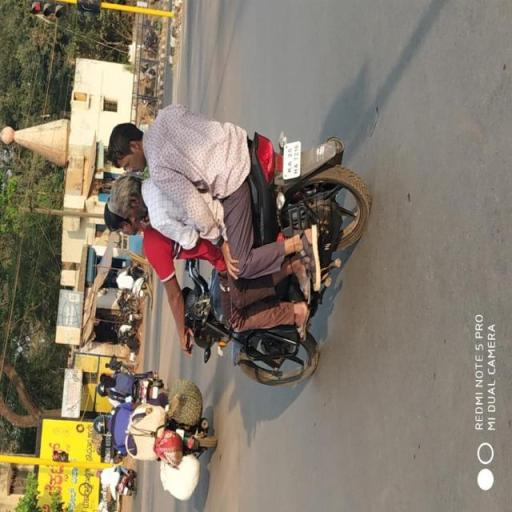tripple riding: (102, 101, 268, 335)
